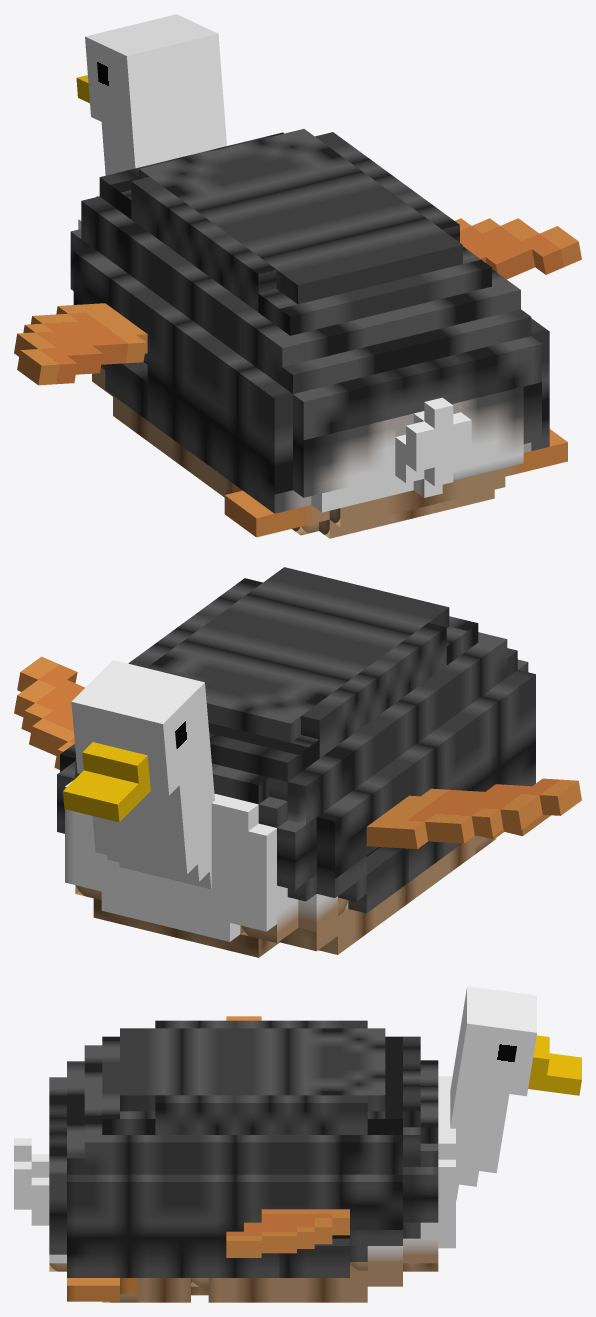
The model's file is Turtleduck.dae.
The picture shows the model from 3 angles, top to bottom: view 1: azimuth 30°, elevation 25°; view 2: azimuth 150°, elevation 25°; view 3: azimuth 270°, elevation 25°; orthographic projection. The views are drawn at different scales.
Visible parts, largest first — view 1: Body-local, Head-local, LeftWing-local, RightWing-local; view 2: Body-local, Head-local, LeftWing-local, RightWing-local; view 3: Body-local, Head-local, RightWing-local.
Part boxes in pixels (box(x1,y1,x2,y2)): Body-local: box(70, 129, 567, 538); Head-local: box(76, 14, 226, 175); LeftWing-local: box(14, 303, 147, 385); RightWing-local: box(455, 218, 581, 279); Body-local: box(57, 567, 550, 957); Head-local: box(63, 660, 214, 889); LeftWing-local: box(366, 778, 581, 849); RightWing-local: box(14, 656, 84, 769); Body-local: box(14, 1020, 455, 1302); Head-local: box(450, 986, 581, 1200); RightWing-local: box(226, 1209, 349, 1257).
Size of the model in its own units: 29.65 by 15.55 by 32.12.
4 materials, 4 textured.
